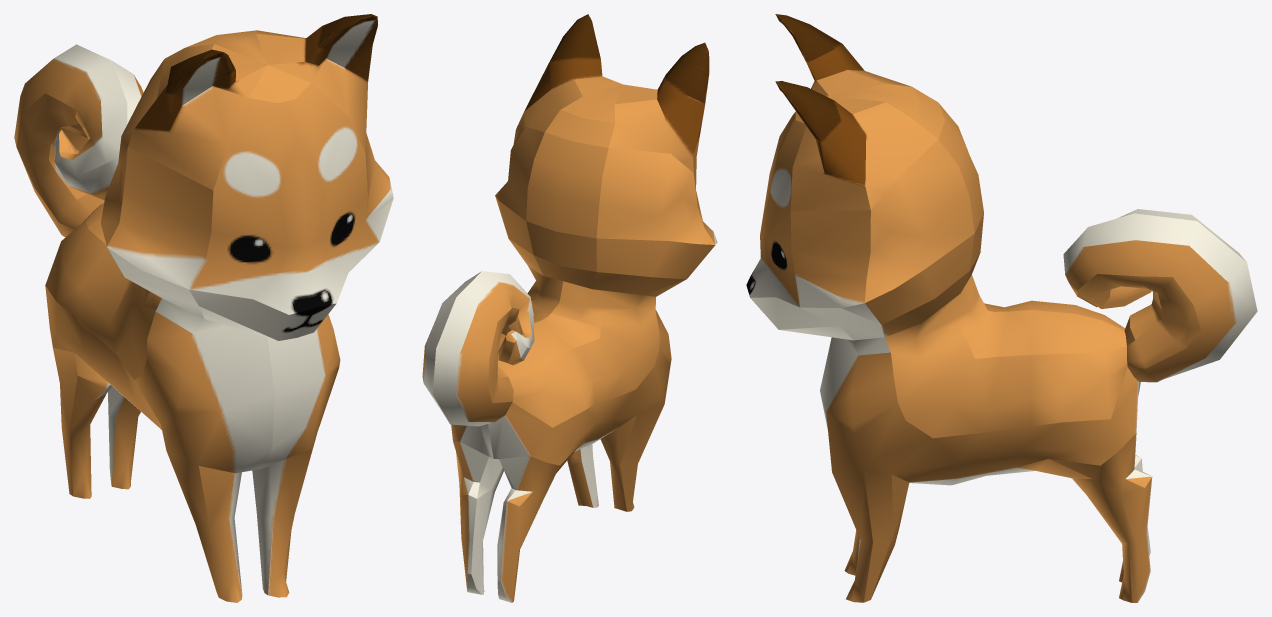
The model's file is tailWagging_frame18.obj.
3 renders of one model, left to right at view 1: azimuth 30°, elevation 25°; view 2: azimuth 150°, elevation 25°; view 3: azimuth 270°, elevation 25°, orthographic. The views are drawn at different scales.
Visible parts, largest first — view 1: newRigging:BodzL1; view 2: newRigging:BodzL1; view 3: newRigging:BodzL1.
Boxes of the visible parts, x1,y1,x2,y2 form: newRigging:BodzL1: [14, 14, 393, 602]; newRigging:BodzL1: [422, 14, 717, 602]; newRigging:BodzL1: [746, 14, 1257, 602].
Size of the model in its own units: 3.91 by 7.94 by 6.81.
1 material, 1 textured.
